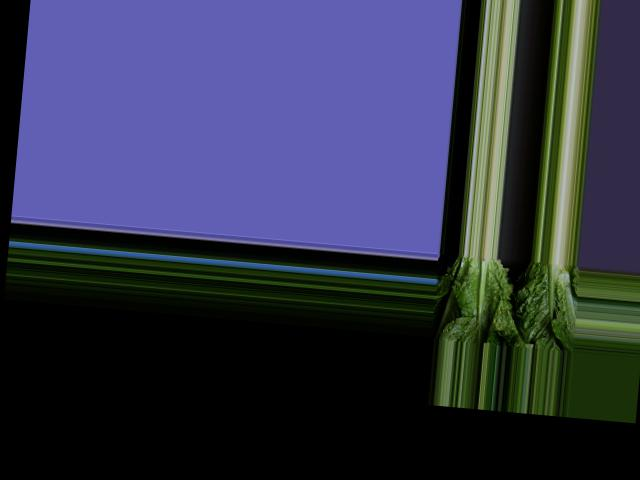lettuce: (513, 259, 576, 346)
